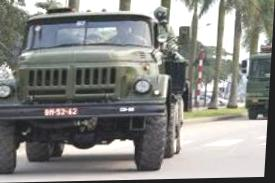License_Plate: (42, 106, 78, 118)
